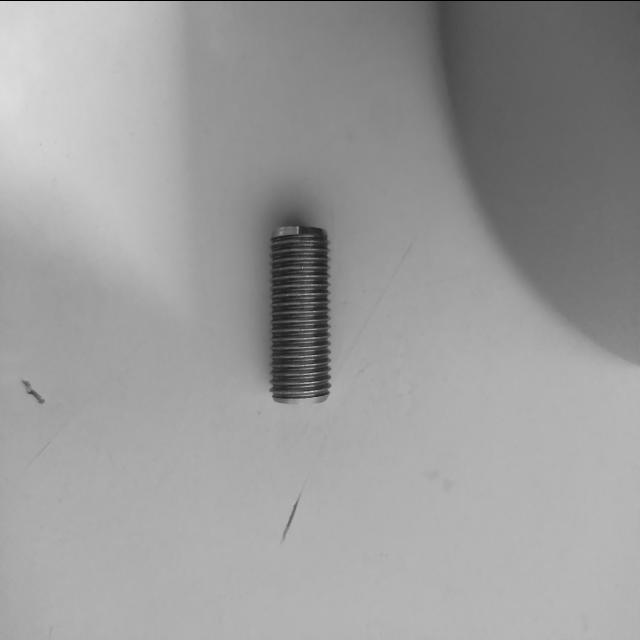Normal: (268, 225, 332, 404)
